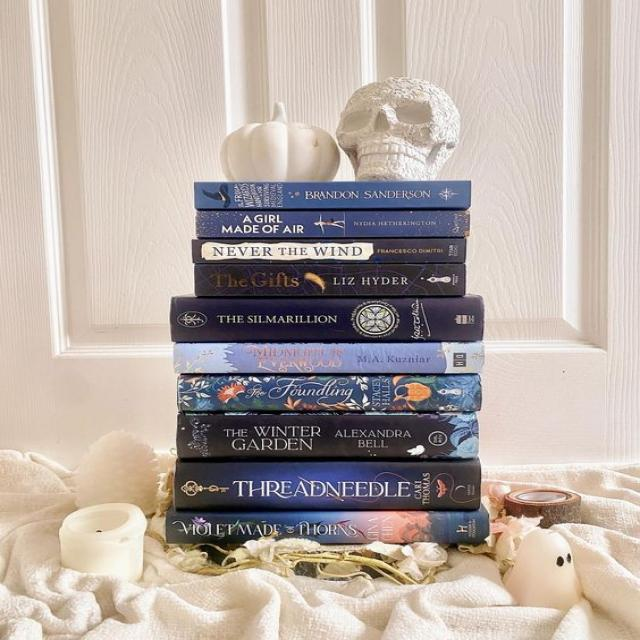book: (174, 461, 481, 511), (172, 297, 483, 341), (176, 415, 478, 459), (165, 512, 489, 544), (178, 378, 481, 412), (174, 344, 485, 374), (194, 264, 466, 296), (195, 182, 471, 206), (196, 212, 470, 235), (191, 240, 467, 262)
candle: (59, 501, 149, 582)
